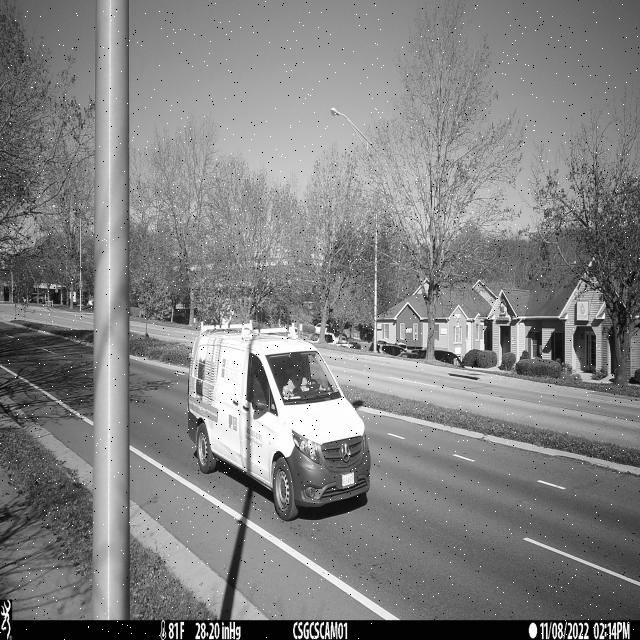Van: (187, 323, 371, 522)
